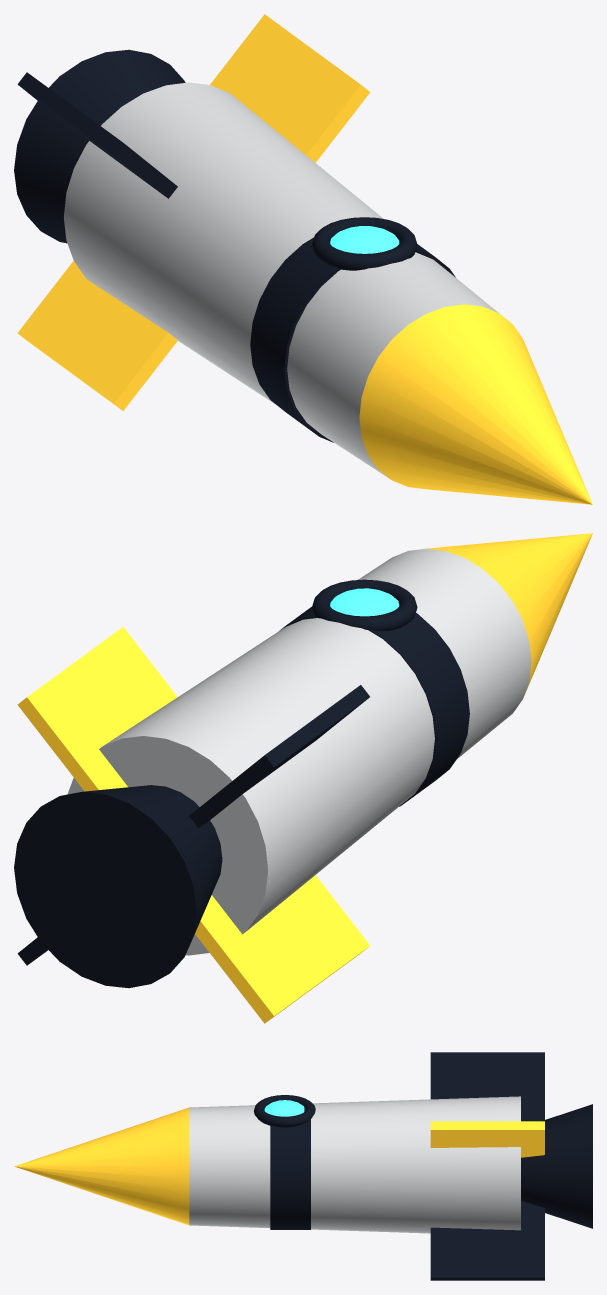
The model's file is foguete.glb.
3 renders of one model, top to bottom at view 1: azimuth 30°, elevation 25°; view 2: azimuth 150°, elevation 25°; view 3: azimuth 270°, elevation 25°, orthographic. The views are drawn at different scales.
Visible parts, largest first — view 1: FoguetePrumo; view 2: FoguetePrumo; view 3: FoguetePrumo.
Boxes of the visible parts, box(x1,y1,x2,y2) form: FoguetePrumo: box(14, 14, 592, 504); FoguetePrumo: box(14, 533, 592, 1023); FoguetePrumo: box(14, 1052, 592, 1280).
Size of the model in its own units: 0.9546 by 0.9546 by 3.14.
